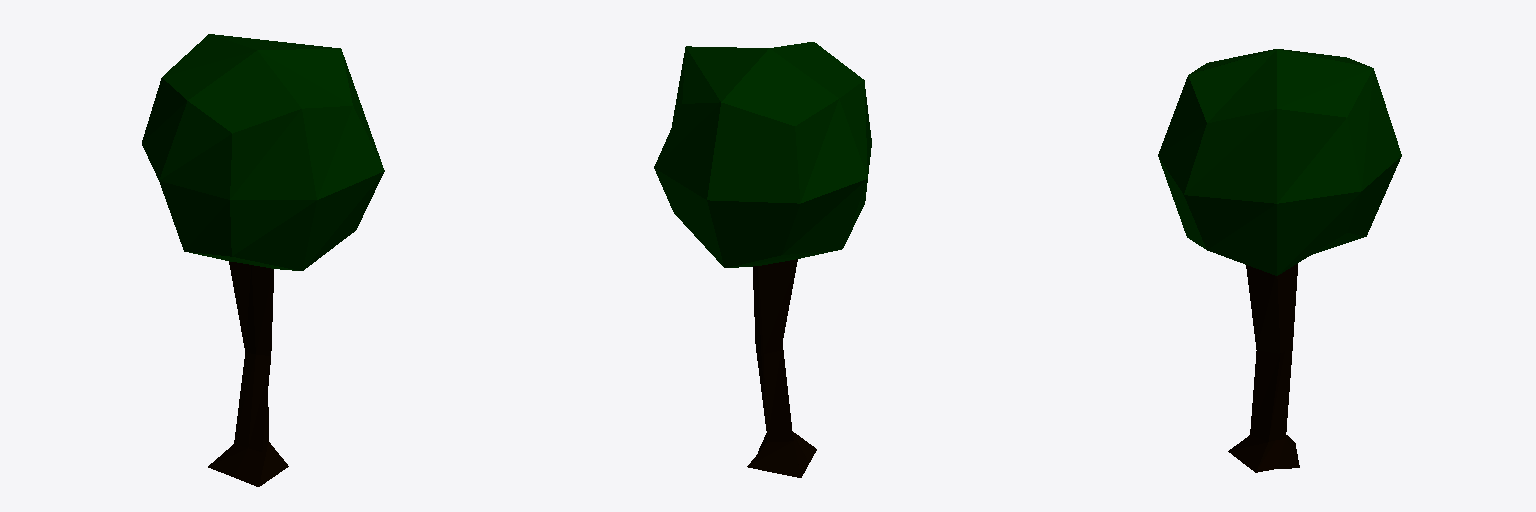
Rendered from tree.obj.
3 renders of one model, left to right at view 1: azimuth 30°, elevation 25°; view 2: azimuth 150°, elevation 25°; view 3: azimuth 270°, elevation 25°, orthographic.
Parts seen in each view (by area): view 1: Cube; view 2: Cube; view 3: Cube.
Part boxes in pixels (bbox=[...]): Cube: bbox=[142, 34, 384, 486]; Cube: bbox=[654, 42, 871, 477]; Cube: bbox=[1158, 49, 1401, 472].
Bounding box in the file's own units: 3.25 × 6.51 × 3.48.